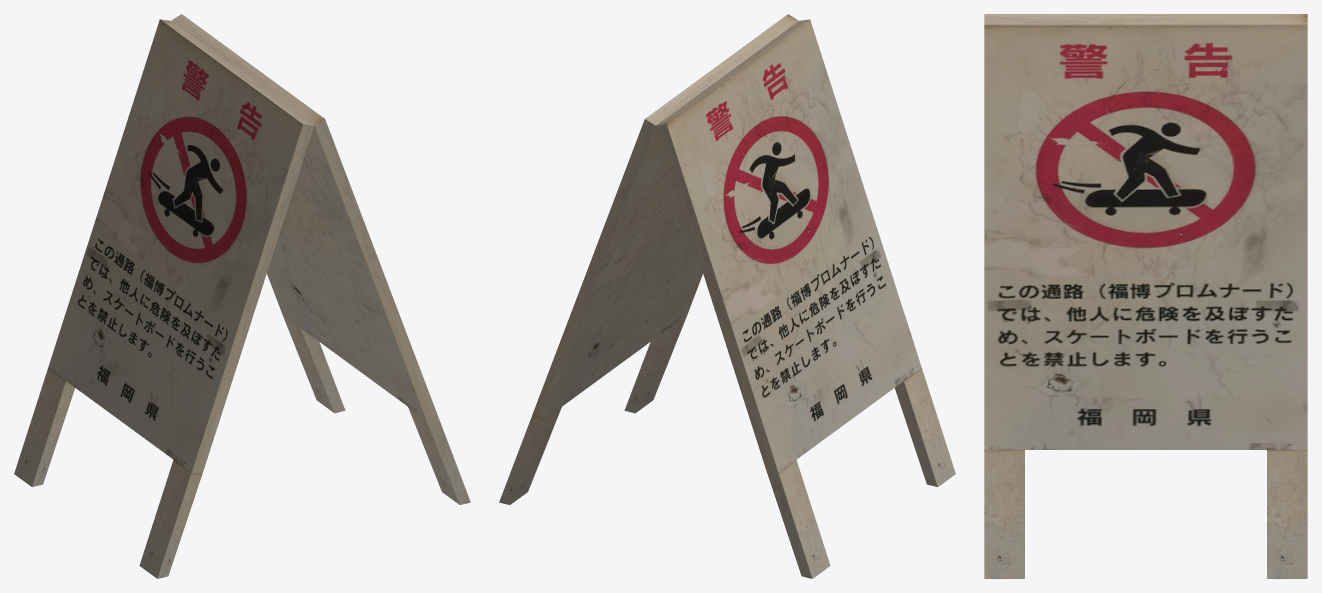
The model's file is japanese_dont_skate_sign.glb.
The picture shows the model from 3 angles, left to right: view 1: azimuth 30°, elevation 25°; view 2: azimuth 150°, elevation 25°; view 3: azimuth 270°, elevation 25°; orthographic projection. The views are drawn at different scales.
Parts seen in each view (by area): view 1: Cube; view 2: Cube; view 3: Cube.
Boxes of the visible parts, x1,y1,x2,y2 form: Cube: (14,14,470,578); Cube: (499,14,955,578); Cube: (984,14,1307,578).
Size of the model in its own units: 1.82 by 2.33 by 1.44.
1 material, 1 textured.
